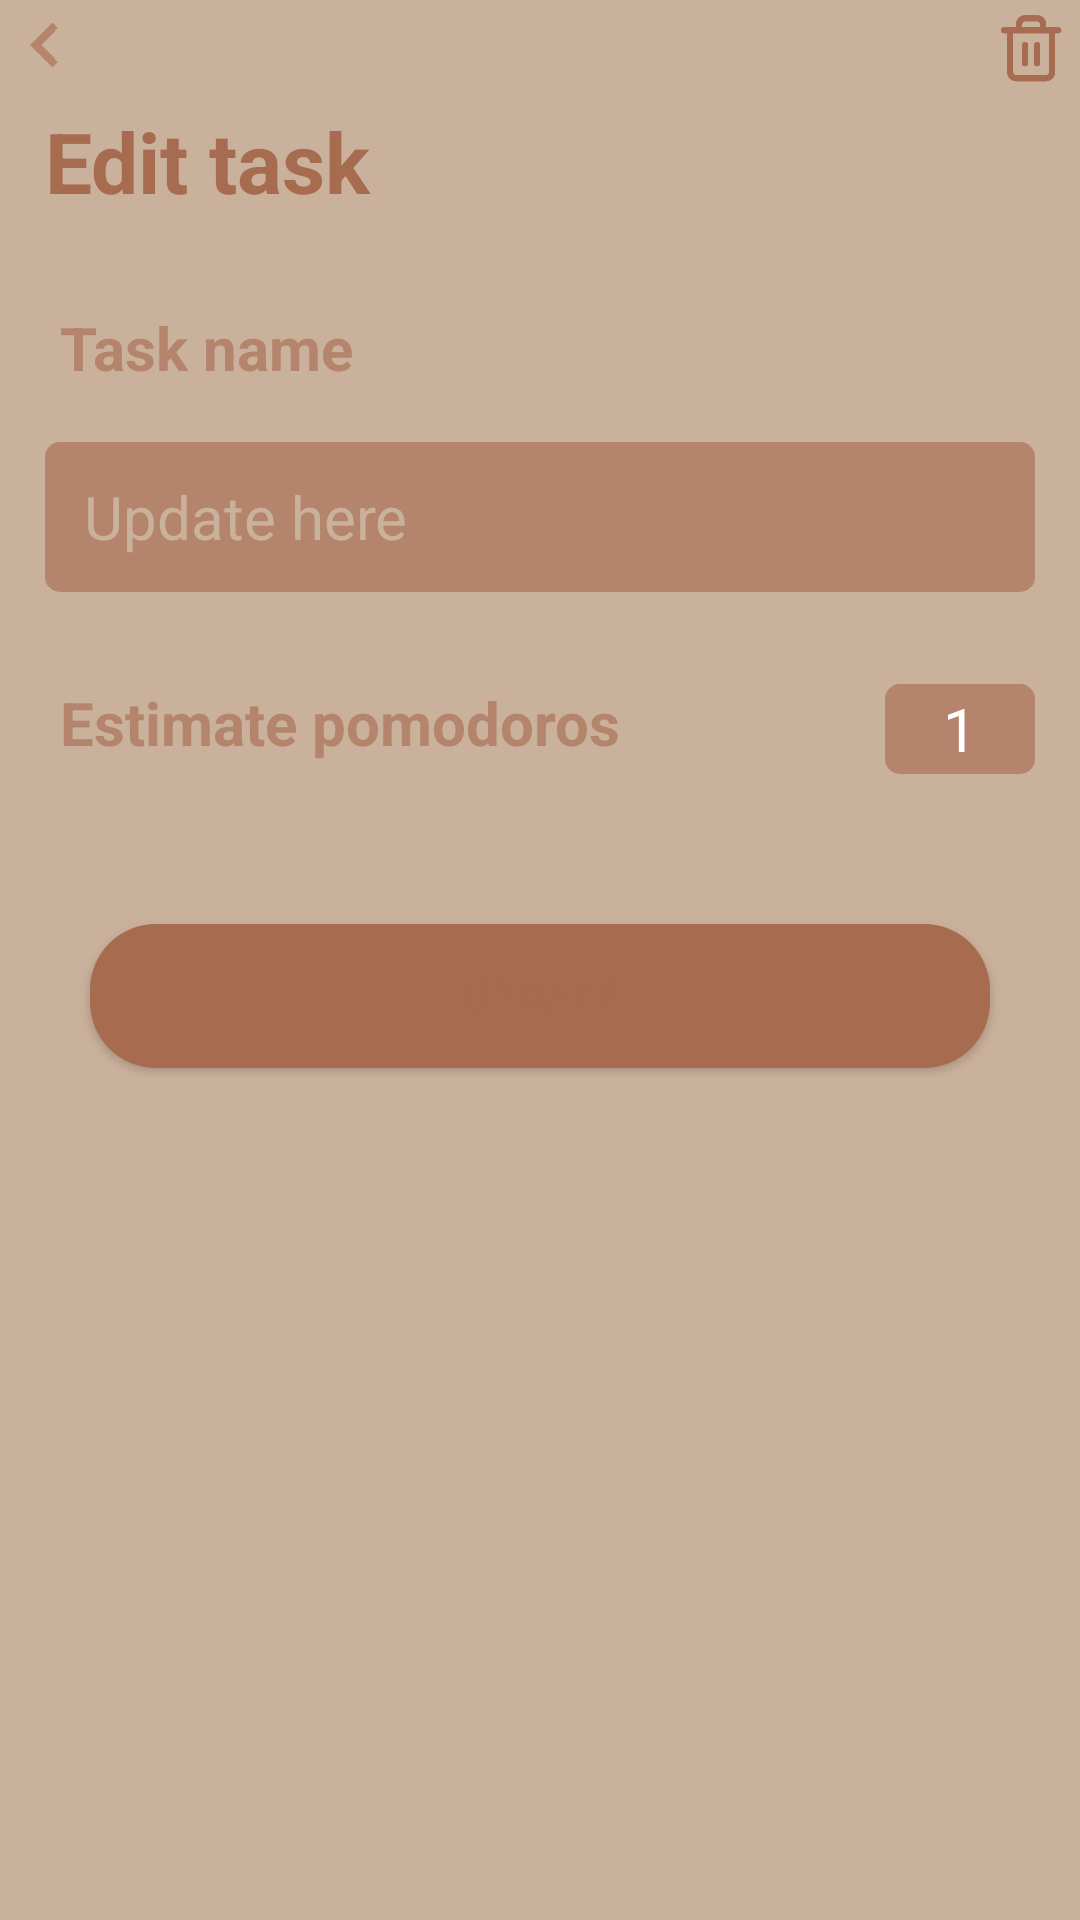

Icon click points for this 1080px×1920px phone screenshot, format [x,y]:
btnback: [44,45]
trash: [1031,48]
